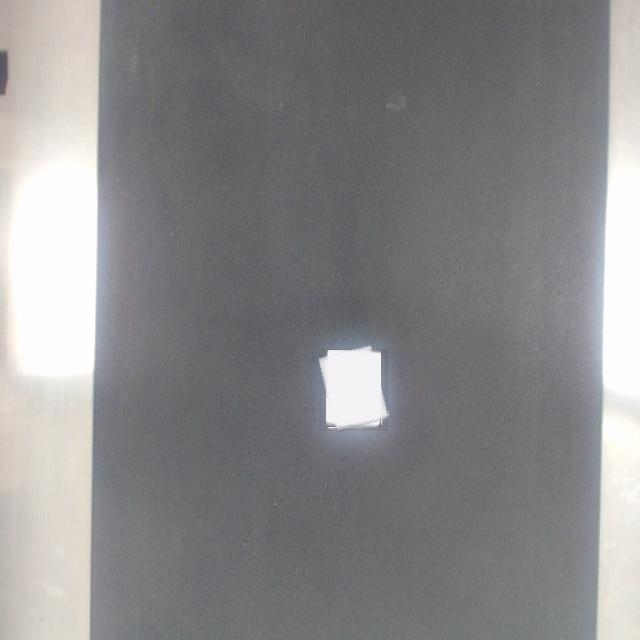Blanco: (320, 349, 388, 431)
